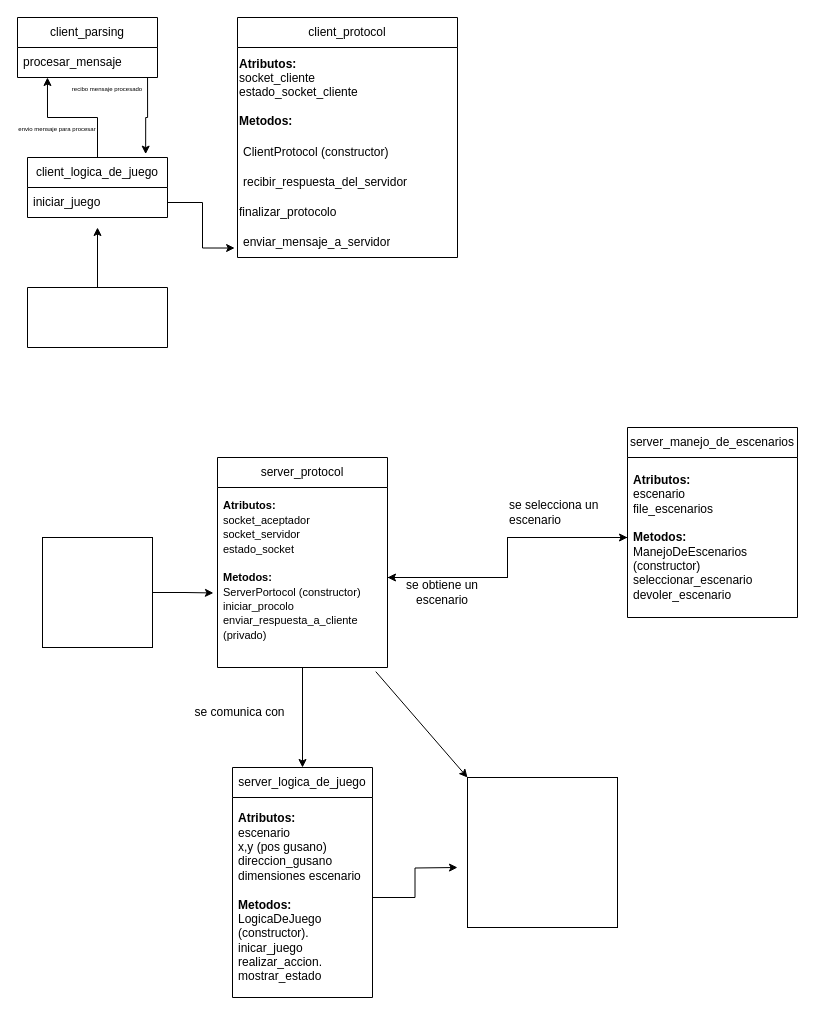
The diagram is 815 pixels wide and 1015 high, and some of its shapes have lost their labels. The centre of each missing label's shape, as x and y in pixels:
"client_main" goes at (x=97, y=317).
"server_acciones_juego codigos de acciones del juego" goes at (x=542, y=852).
"server_main" goes at (x=97, y=592).
